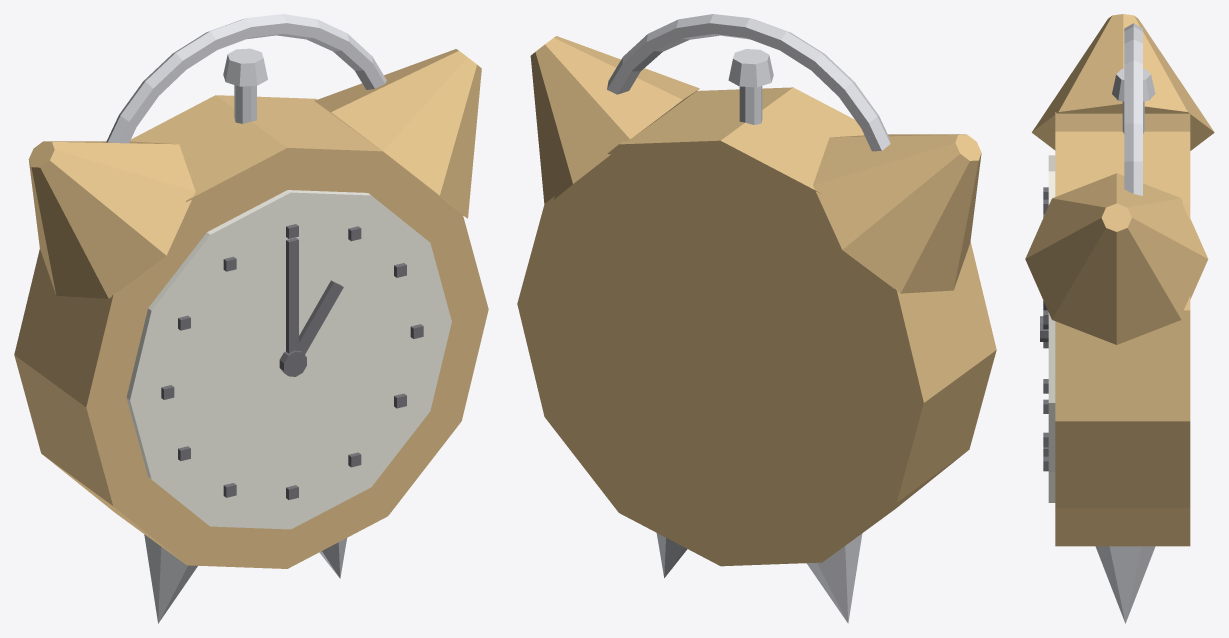
The model's file is Clock.fbx.
The picture shows the model from 3 angles, left to right: view 1: azimuth 30°, elevation 25°; view 2: azimuth 150°, elevation 25°; view 3: azimuth 270°, elevation 25°; orthographic projection. The views are drawn at different scales.
Visible parts, largest first — view 1: Clk_BellL; view 2: Clk_BellL; view 3: Clk_BellL.
Boxes of the visible parts, bbox=[...] form: Clk_BellL: bbox=[14, 14, 488, 623]; Clk_BellL: bbox=[517, 14, 996, 623]; Clk_BellL: bbox=[1025, 14, 1214, 623].
Size of the model in its own units: 70.81 by 88.38 by 27.9.
